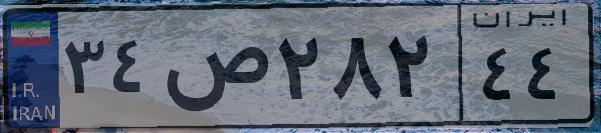2: (270, 28, 330, 110), (385, 28, 445, 110)
3: (57, 26, 110, 100)
4: (475, 38, 525, 113), (525, 38, 570, 115), (110, 28, 158, 98)
8: (330, 28, 385, 110)
ص: (158, 20, 270, 120)
